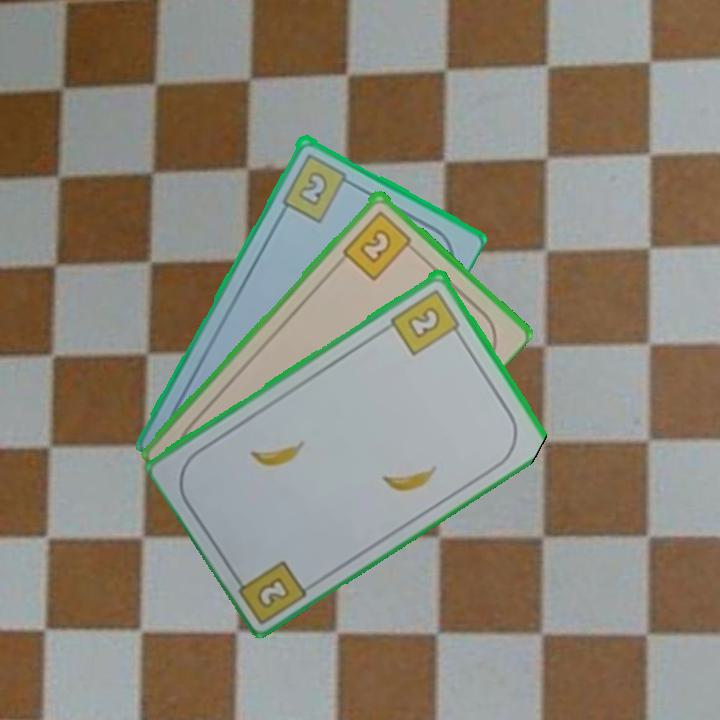2b: (338, 207, 419, 283), (278, 149, 357, 225), (387, 285, 466, 358), (253, 572, 293, 611)
